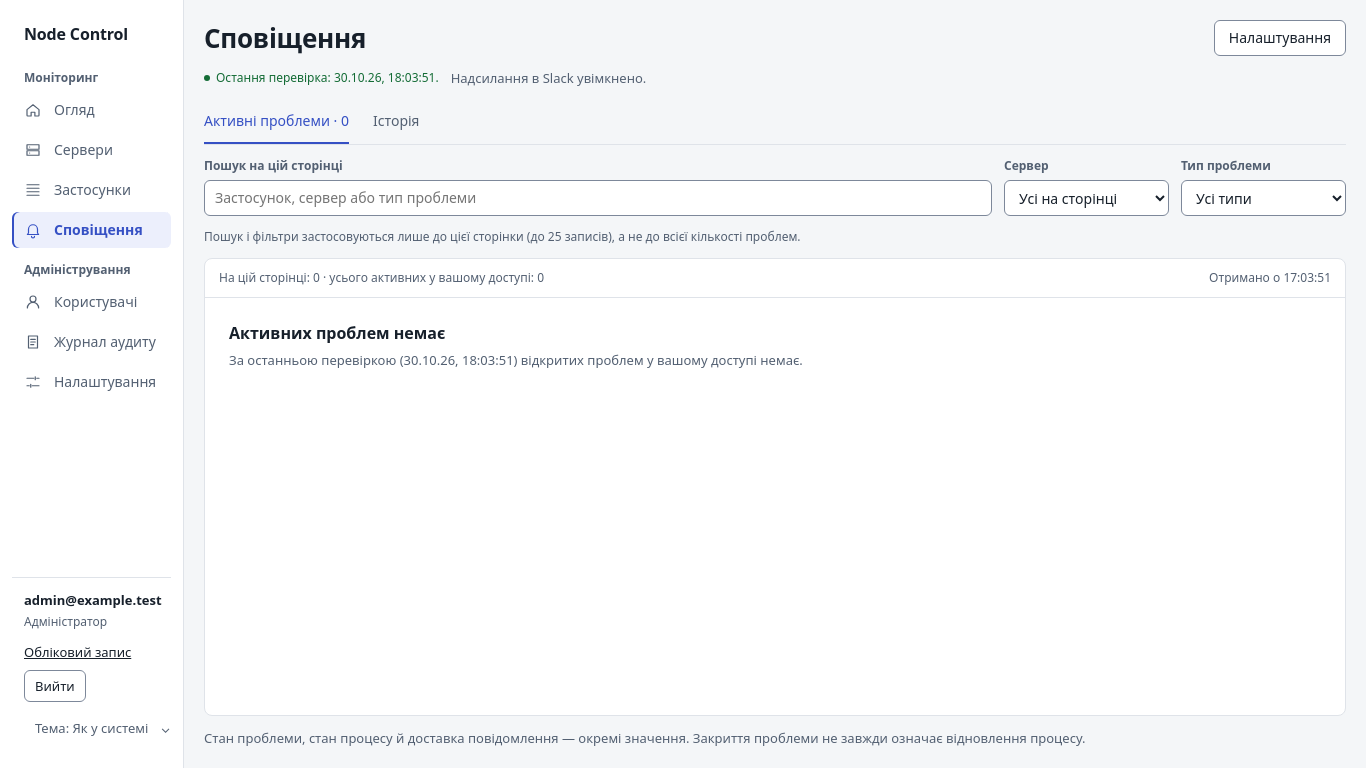
Test case: silent re-check changes the session › another user (B): a late 204 of A's logout does not end B (Codex reproducer)
Expected: the text "admin@example.test" is shown, [24,590,182,610]
Click the button "Вийти" at (55, 686), box [24,670,86,702]
Wait 1150 ms
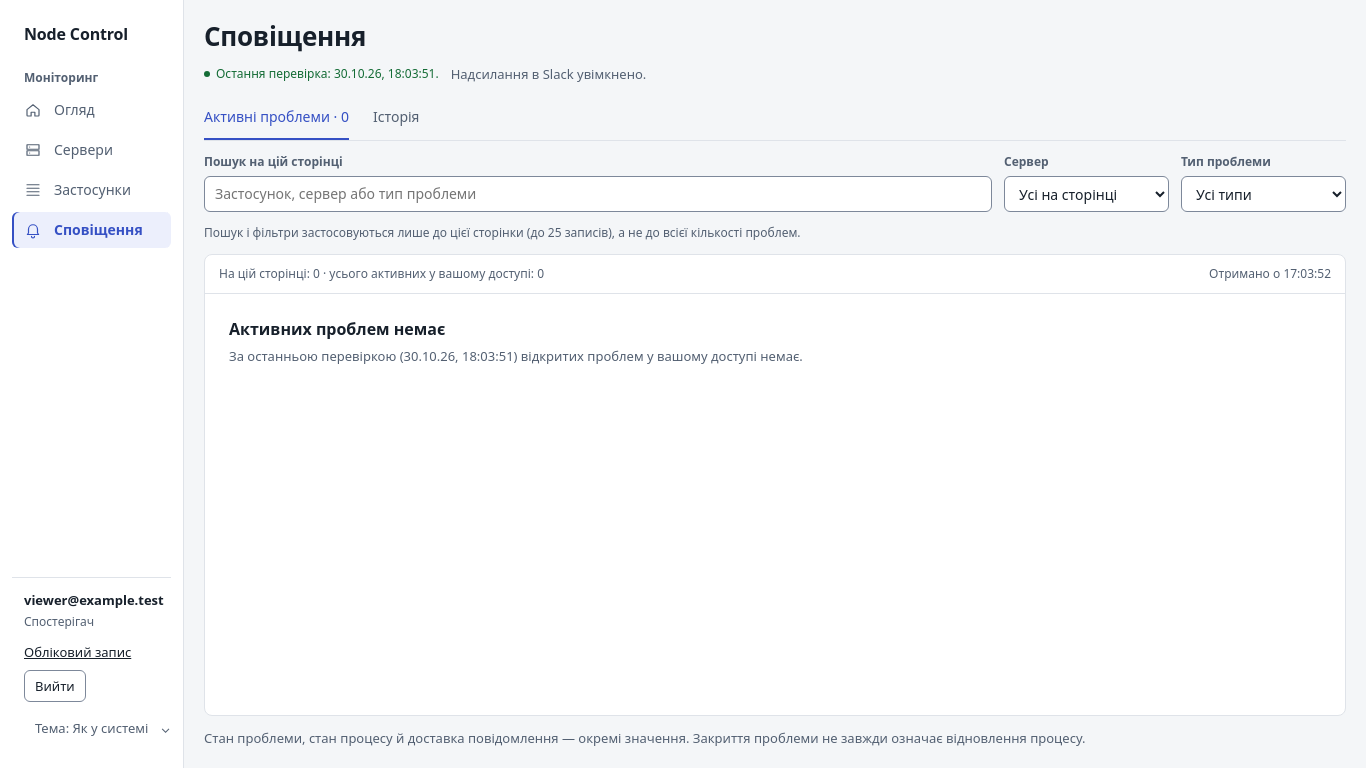
Expected: the text "viewer@example.test" is shown, [24,590,182,610]
